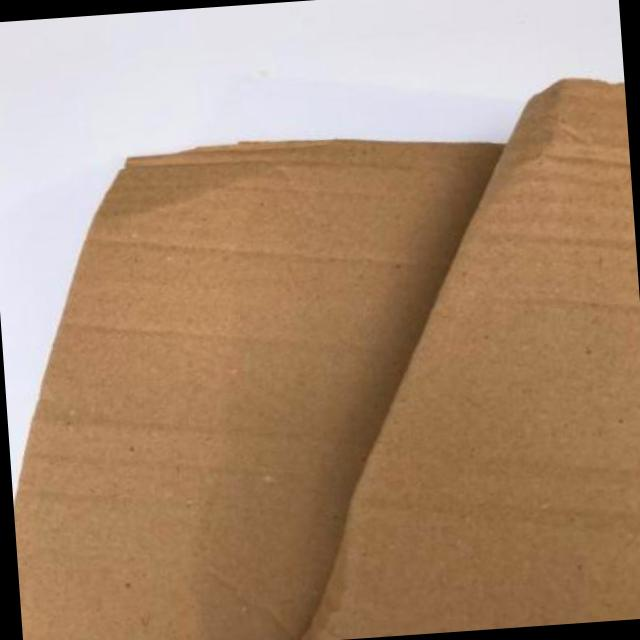cardboard paper: (12, 79, 640, 640)
